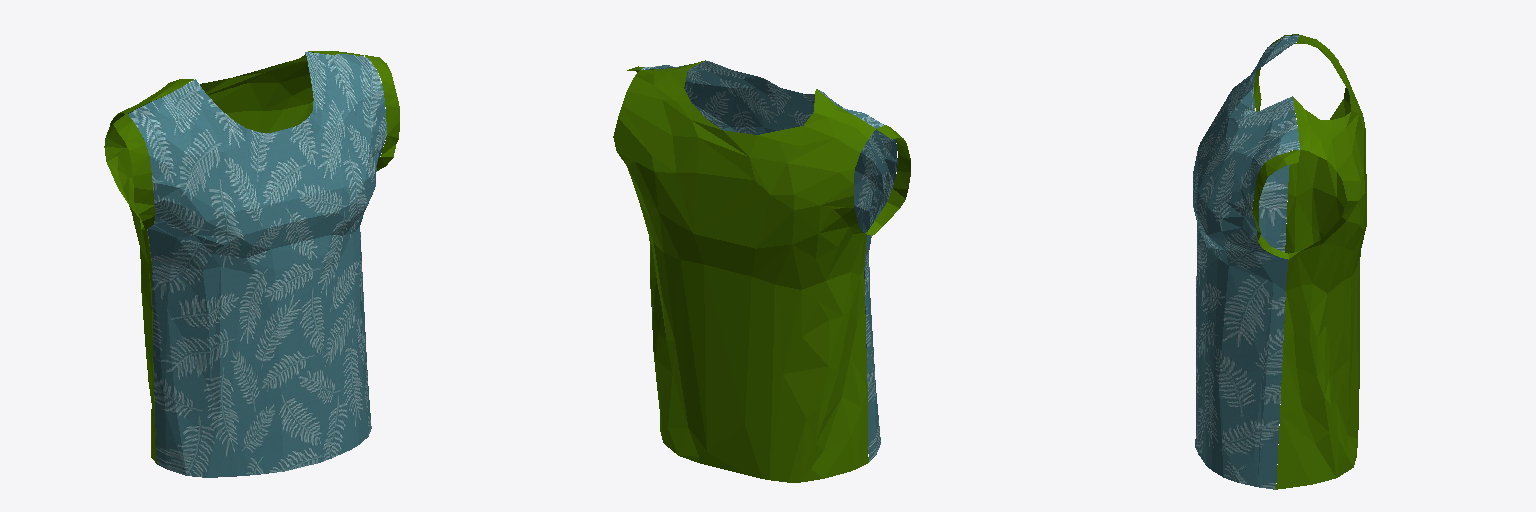
3 renders of one model, left to right at view 1: azimuth 30°, elevation 25°; view 2: azimuth 150°, elevation 25°; view 3: azimuth 270°, elevation 25°, orthographic.
Parts seen in each view (by area): view 1: T_shirt.006; view 2: T_shirt.006; view 3: T_shirt.006.
Boxes of the visible parts, box(x1,y1,x2,y2) form: T_shirt.006: box(104, 51, 399, 477); T_shirt.006: box(613, 60, 910, 482); T_shirt.006: box(1193, 34, 1366, 489).
Size of the model in its own units: 0.2935 by 0.3892 by 0.1639.
2 materials, 1 textured.